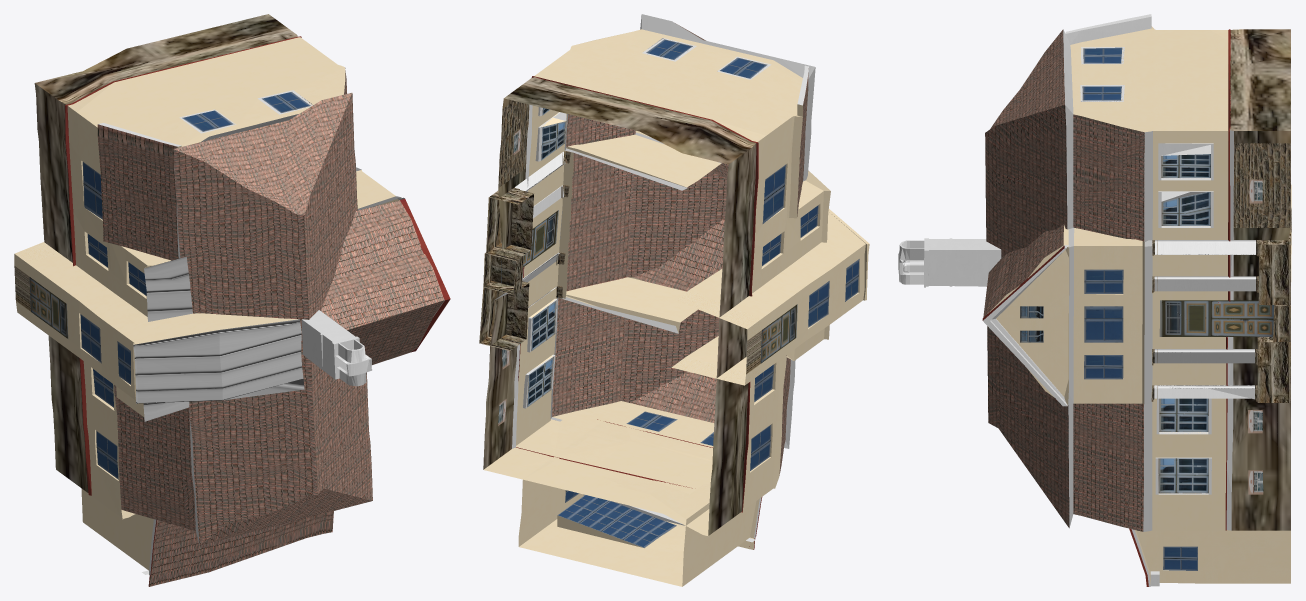
Rendered from Uus_21-origo.obj.
The picture shows the model from 3 angles, left to right: view 1: azimuth 30°, elevation 25°; view 2: azimuth 150°, elevation 25°; view 3: azimuth 270°, elevation 25°; orthographic projection. The views are drawn at different scales.
Parts seen in each view (by area): view 1: uus21; view 2: uus21; view 3: uus21.
Boxes of the visible parts, x1,y1,x2,y2 form: uus21: [14, 14, 450, 586]; uus21: [479, 14, 869, 586]; uus21: [898, 14, 1291, 586].
Bounding box in the file's own units: 12.81 × 20.5 × 15.11.
